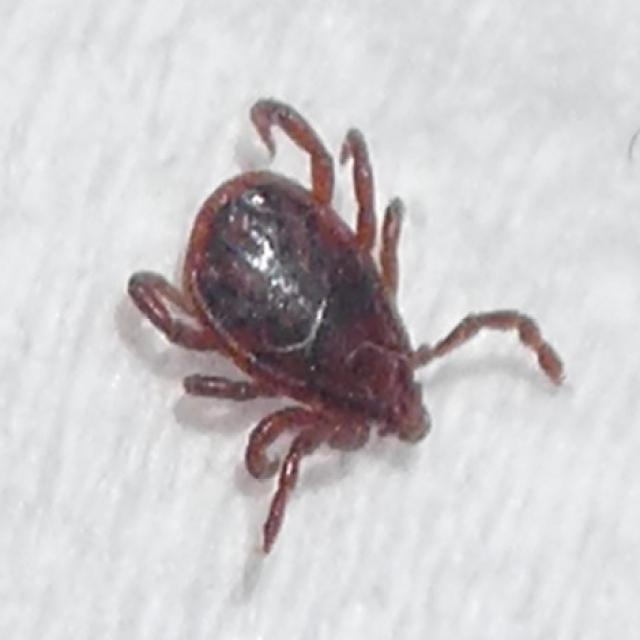Rhipicephalus Sanguineus-M: (125, 97, 564, 552)
